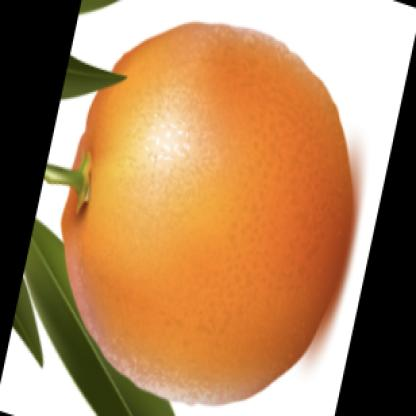fresh: (64, 21, 351, 403)
